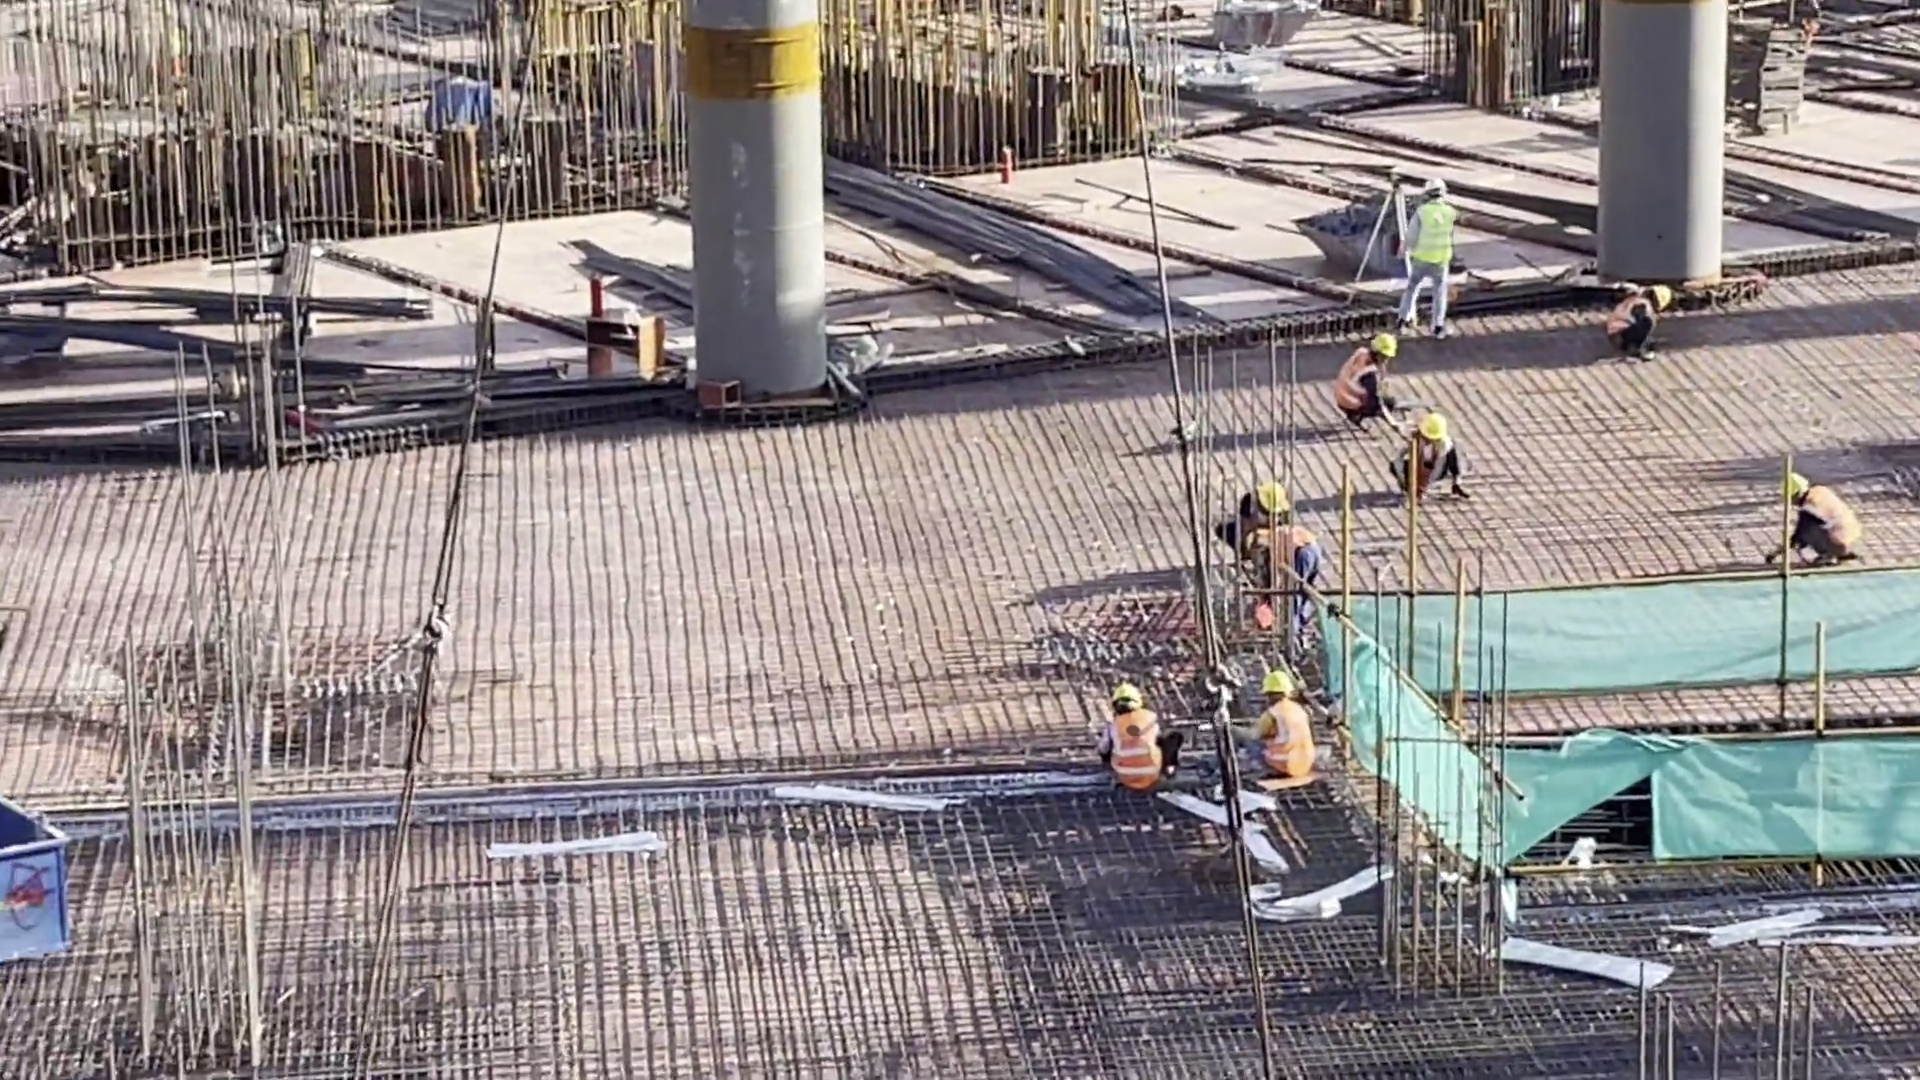helmet: (1780, 464, 1810, 501), (1365, 332, 1391, 366), (1255, 486, 1284, 510), (1264, 673, 1293, 695), (1417, 414, 1441, 440), (1105, 682, 1133, 704), (1652, 280, 1670, 312), (1422, 180, 1444, 194)
hopper: (1, 817, 82, 963)
person: (1218, 656, 1323, 793), (1089, 681, 1182, 809), (1392, 175, 1459, 342), (1768, 469, 1868, 572), (1238, 528, 1326, 622), (1384, 413, 1470, 507), (1330, 329, 1404, 428), (1215, 486, 1298, 565), (1604, 283, 1669, 362)
rebar: (864, 167, 1164, 324), (22, 318, 345, 378), (74, 273, 401, 311), (569, 240, 703, 324)
vest: (1801, 489, 1860, 549), (1112, 716, 1161, 784), (1338, 352, 1384, 420), (1259, 711, 1304, 777), (1416, 211, 1450, 267), (1262, 526, 1308, 565), (1603, 295, 1635, 330), (1412, 443, 1440, 480)
